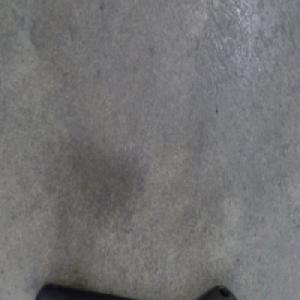AdjustableWrench: (37, 274, 237, 300)
